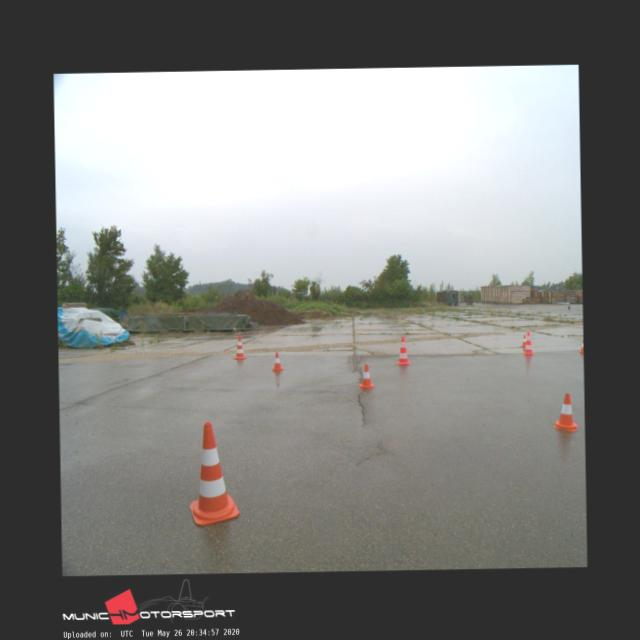large_orange_cone: (188, 420, 238, 524), (396, 336, 409, 364), (233, 336, 246, 358), (522, 332, 533, 354)
orange_cone: (552, 392, 577, 429), (358, 363, 373, 388), (271, 352, 282, 370), (578, 338, 582, 352), (522, 334, 526, 346)
